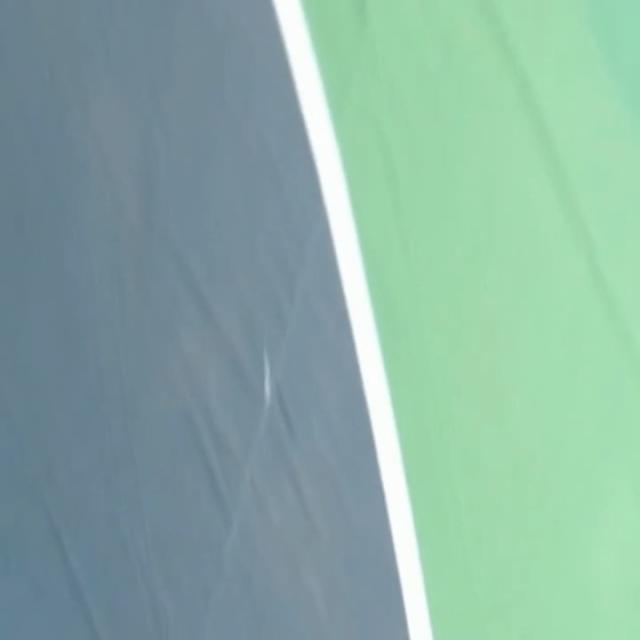right: (273, 0, 432, 639)
